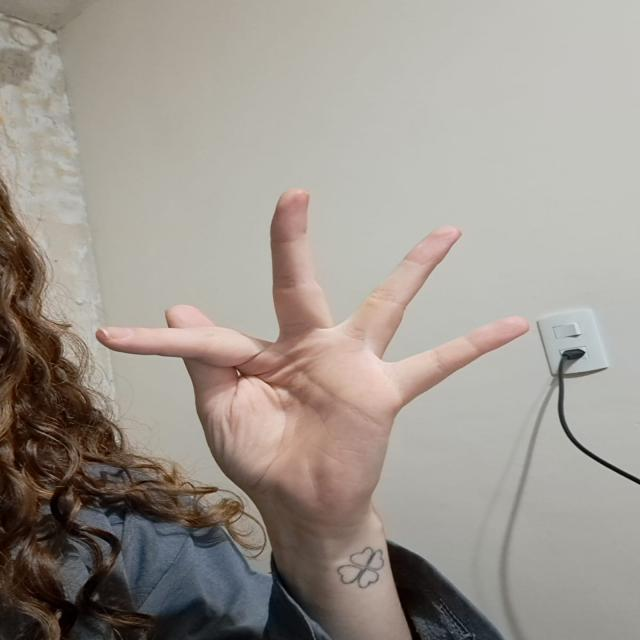F: (91, 184, 529, 522)
